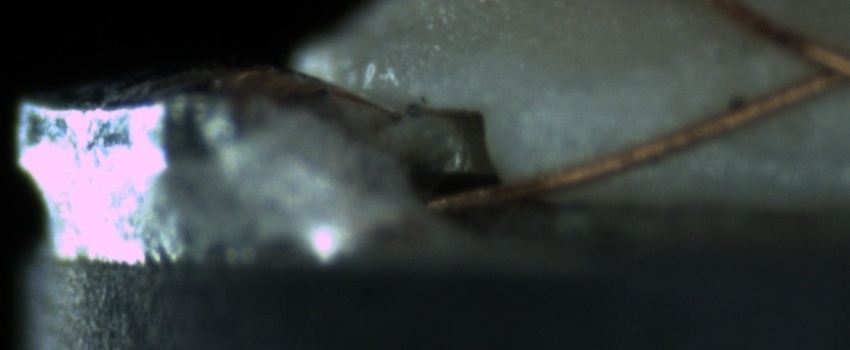CL: (775, 25, 848, 99)
DL: (526, 69, 675, 131)
